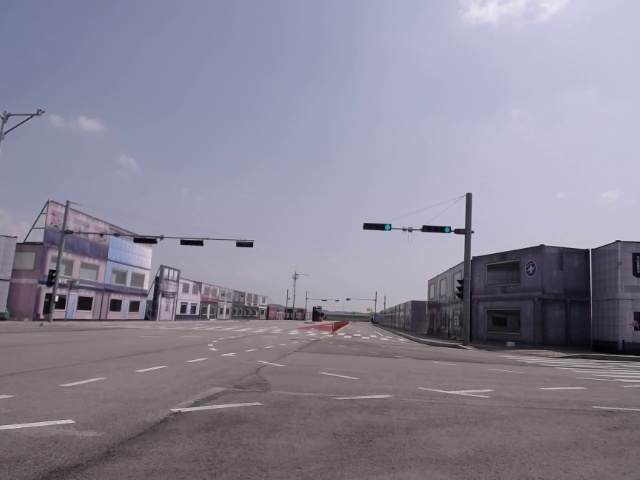straight_green_4: (421, 224, 451, 234), (364, 223, 393, 231)
